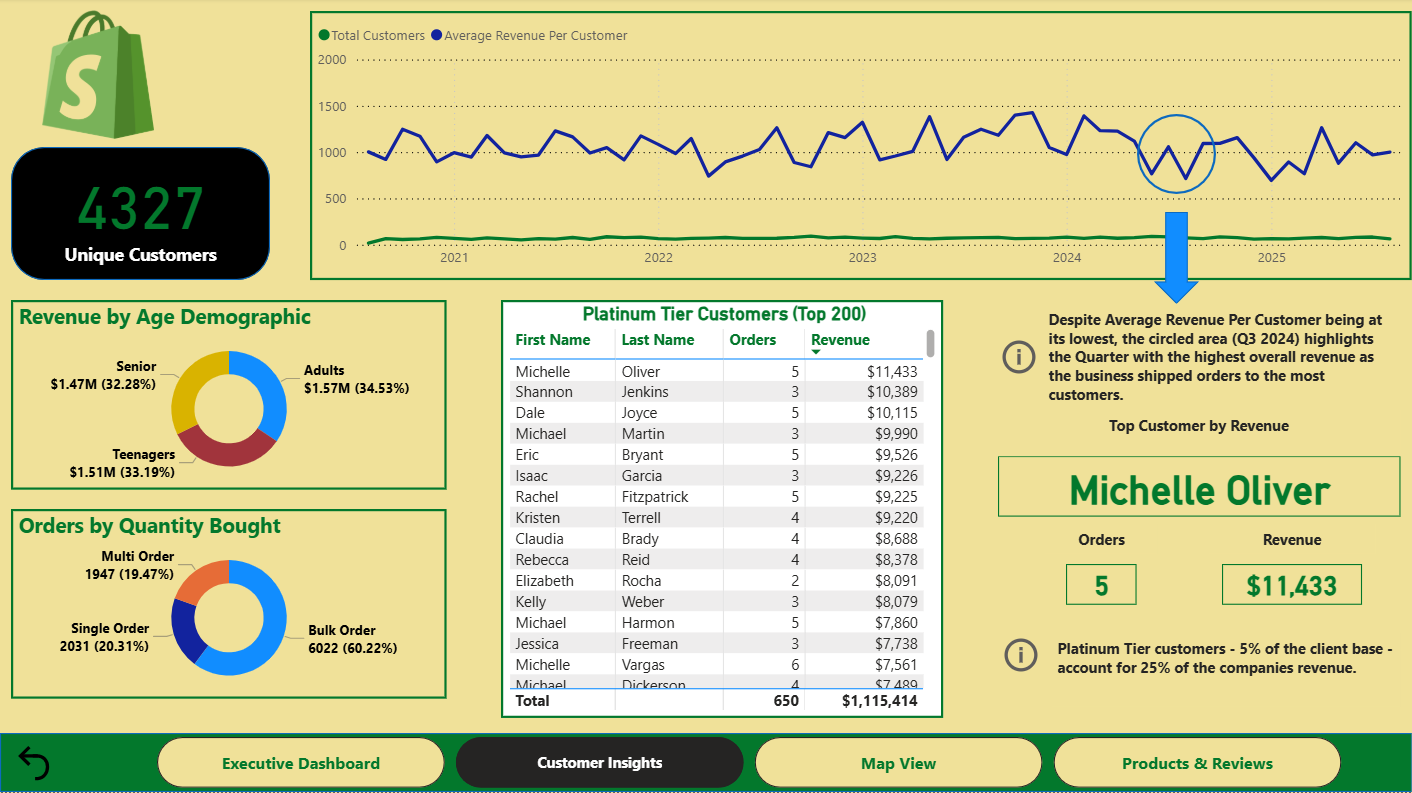

What the dashboard file says about the page in this screenshot:
{"tool":"powerbi","page":{"name":"Customer Insights","canvas":[1280,720],"ordinal":1},"visuals":[{"type":"shape","box":[10,135.1,234.9,120.6],"z":2000},{"type":"card","fields":{"Values":["Measures Table.Total Customers"]},"box":[49.9,139.6,155.1,108.8],"z":3000},{"type":"donutChart","title":"Revenue by Age Demographic","fields":{"Category":["Customers Table.AGE GROUP"],"Y":["Measures Table.Net Revenue"]},"box":[10,273.9,395.4,172.3],"z":4000},{"type":"donutChart","title":"Orders by Quantity Bought","fields":{"Y":["Measures Table.Total Orders"],"Category":["Orders Table.ORDER TYPE"]},"box":[10,463.4,395.4,172.3],"z":5000},{"type":"tableEx","title":"Platinum Tier Customers (Top 200)","fields":{"Values":["Customers Table.FIRST NAME","Customers Table.LAST NAME","Measures Table.Total Orders","Measures Table.Net Revenue"]},"box":[454.3,273.9,400.8,379],"z":6000},{"type":"lineChart","fields":{"Y":["Measures Table.Total Customers","Measures Table.Average Revenue Per Customer"],"Category":["Customers Table.SIGNUP DATE.Variation.Date Hierarchy.Year","Customers Table.SIGNUP DATE.Variation.Date Hierarchy.Month"]},"box":[281.1,11.8,999.3,243.9],"z":7000},{"type":"shape","box":[1031,105.2,71.6,72.5],"z":8000},{"type":"shape","box":[1046.4,194.1,40.8,83.4],"z":9000},{"type":"textbox","box":[945.8,277.5,323.7,96.1],"z":10000},{"type":"card","fields":{"Values":["Min(Customers Table.FULL NAME)"]},"box":[905,415.3,365.4,55.3],"z":11000},{"type":"textbox","box":[905,373.6,364.5,41.7],"z":12000},{"type":"card","fields":{"Values":["Measures Table.Net Revenue"]},"box":[1108.1,513.2,127,37.2],"z":13000},{"type":"card","fields":{"Values":["Measures Table.Total Orders"]},"box":[966.6,513.2,64.4,37.2],"z":14000},{"type":"textbox","box":[947.6,477,102.5,27.2],"z":15000},{"type":"textbox","box":[1096.3,477,150.5,27.2],"z":16000},{"type":"actionButton","box":[904.1,305.6,41.7,39.9],"z":17000},{"type":"actionButton","box":[905.9,575.8,41.7,39.9],"z":18000},{"type":"textbox","box":[954,575.8,316.5,67.1],"z":19000},{"type":"shape","box":[0,666.5,1280.4,53.5],"z":20001},{"type":"actionButton","box":[10,672.8,47.2,41.7],"z":20002},{"type":"image","box":[0,4.5,177.7,129.7],"z":20003},{"type":"bookmarkNavigator","box":[142.4,670.1,1074.6,46.2],"z":20004}]}

Visuals, with their boxes in screenshot pixels (x1, y1, x2, y2), scaled from the page's 1280x720 canvas onto the 1412x793 screenshot:
shape: rect(11, 149, 270, 282)
card - Measures Table.Total Customers: rect(55, 154, 226, 274)
"Revenue by Age Demographic" donutChart: rect(11, 302, 447, 491)
"Orders by Quantity Bought" donutChart: rect(11, 510, 447, 700)
"Platinum Tier Customers (Top 200)" tableEx: rect(501, 302, 943, 719)
lineChart - Measures Table.Total Customers x Measures Table.Average Revenue Per Customer: rect(310, 13, 1411, 282)
shape: rect(1137, 116, 1216, 196)
shape: rect(1154, 214, 1199, 306)
textbox: rect(1043, 306, 1400, 411)
card - Min(Customers Table.FULL NAME): rect(998, 457, 1401, 518)
textbox: rect(998, 411, 1400, 457)
card - Measures Table.Net Revenue: rect(1222, 565, 1362, 606)
card - Measures Table.Total Orders: rect(1066, 565, 1137, 606)
textbox: rect(1045, 525, 1158, 555)
textbox: rect(1209, 525, 1375, 555)
actionButton: rect(997, 337, 1043, 381)
actionButton: rect(999, 634, 1045, 678)
textbox: rect(1052, 634, 1402, 708)
shape: rect(0, 734, 1411, 792)
actionButton: rect(11, 741, 63, 787)
image: rect(0, 5, 196, 148)
bookmarkNavigator: rect(157, 738, 1343, 789)
